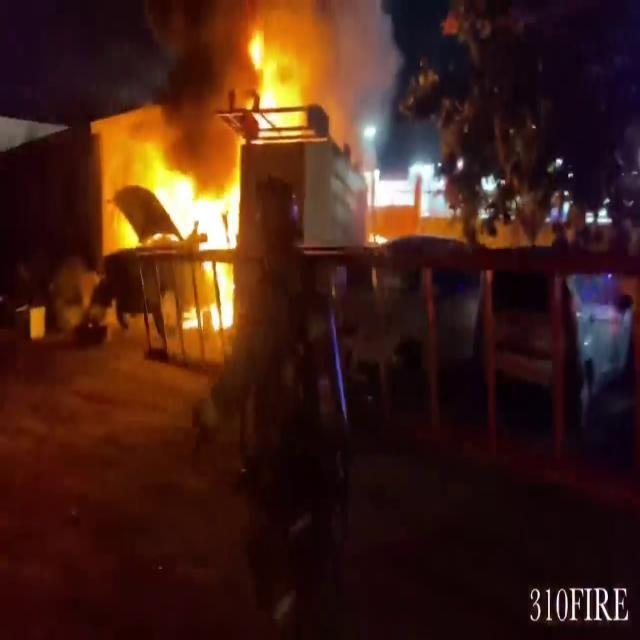Fire: (120, 140, 248, 330), (240, 24, 310, 136)
Smoke: (296, 0, 406, 131)
